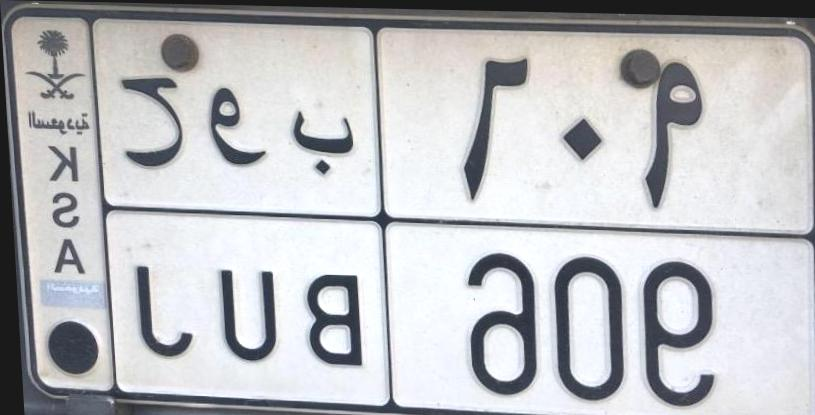License_Plate: (0, 1, 815, 415)
